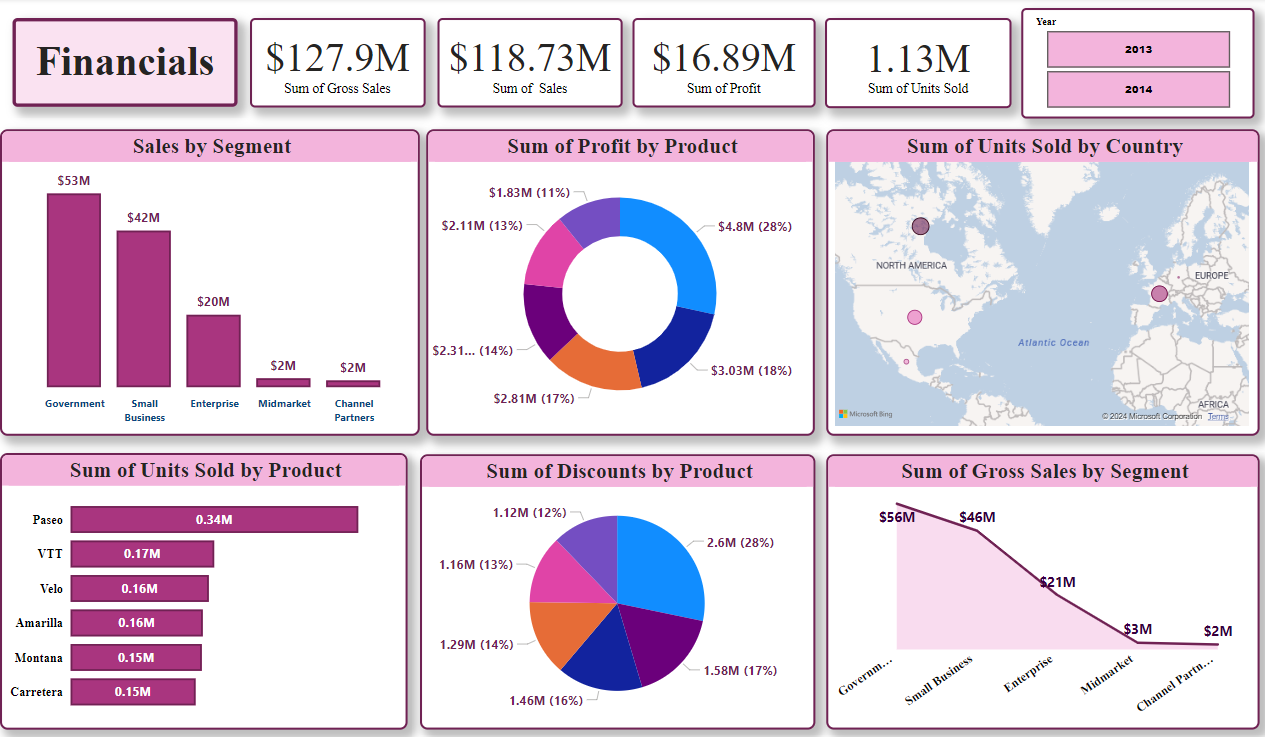

The dashboard page shown, as its layout file describes it:
{"tool":"powerbi","page":{"name":"Page 1","canvas":[1500,880],"ordinal":0},"visuals":[{"type":"card","title":"Gross Sales","fields":{"Values":["Sum(financials.Gross Sales)"]},"box":[295.6,23.6,206.8,105.6],"z":0},{"type":"card","title":"Gross Sales","fields":{"Values":["Sum(financials. Sales)"]},"box":[515.8,23.6,218.7,105.6],"z":1000},{"type":"card","title":"Gross Sales","fields":{"Values":["Sum(financials.Profit)"]},"box":[746.5,23.6,215.8,105.6],"z":2000},{"type":"card","title":"Gross Sales","fields":{"Values":["Sum(financials.Units Sold)"]},"box":[973.8,23.8,220.3,106.1],"z":3000},{"type":"slicer","fields":{"Values":["financials.Year"]},"box":[1204.4,11.3,275,130.3],"z":4000},{"type":"textbox","box":[14.5,24.1,265.3,104.5],"z":5000},{"type":"clusteredColumnChart","title":"Sales by Segment","fields":{"Category":["financials.Segment"],"Y":["Sum(financials. Sales)"]},"box":[0,154.4,495.3,361.8],"z":6000},{"type":"donutChart","fields":{"Y":["Sum(financials.Profit)"],"Category":["financials.Product"]},"box":[503.3,154.4,458.3,361.8],"z":7000},{"type":"clusteredBarChart","fields":{"Y":["Sum(financials.Units Sold)"],"Category":["financials.Product"]},"box":[0,537.1,480.8,326.4],"z":8000},{"type":"pieChart","fields":{"Y":["Sum(financials.Discounts)"],"Category":["financials.Product"]},"box":[495.3,538.7,466.3,324.8],"z":9000},{"type":"lineChart","fields":{"Category":["financials.Segment"],"Y":["Sum(financials.Gross Sales)"]},"box":[974.5,538.7,511.4,324.8],"z":10000},{"type":"map","fields":{"Category":["financials.Country"],"Size":["Sum(financials.Units Sold)"]},"box":[974.5,154.4,511.4,361.8],"z":11000}]}

Visuals, with their boxes in screenshot pixels (x1, y1, x2, y2), scaled from the page's 1500x880 canvas onto the 1265x737 screenshot:
"Gross Sales" card: box(249, 20, 424, 108)
"Gross Sales" card: box(435, 20, 619, 108)
"Gross Sales" card: box(630, 20, 812, 108)
"Gross Sales" card: box(821, 20, 1007, 109)
slicer - financials.Year: box(1016, 9, 1248, 119)
textbox: box(12, 20, 236, 108)
"Sales by Segment" clusteredColumnChart: box(0, 129, 418, 432)
donutChart - Sum(financials.Profit) x financials.Product: box(424, 129, 811, 432)
clusteredBarChart - Sum(financials.Units Sold) x financials.Product: box(0, 450, 405, 723)
pieChart - Sum(financials.Discounts) x financials.Product: box(418, 451, 811, 723)
lineChart - financials.Segment x Sum(financials.Gross Sales): box(822, 451, 1253, 723)
map - financials.Country x Sum(financials.Units Sold): box(822, 129, 1253, 432)
